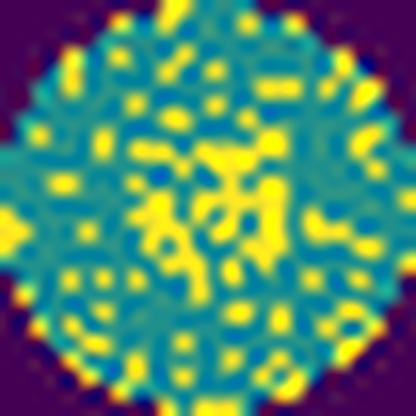Center: (118, 127, 289, 301)
